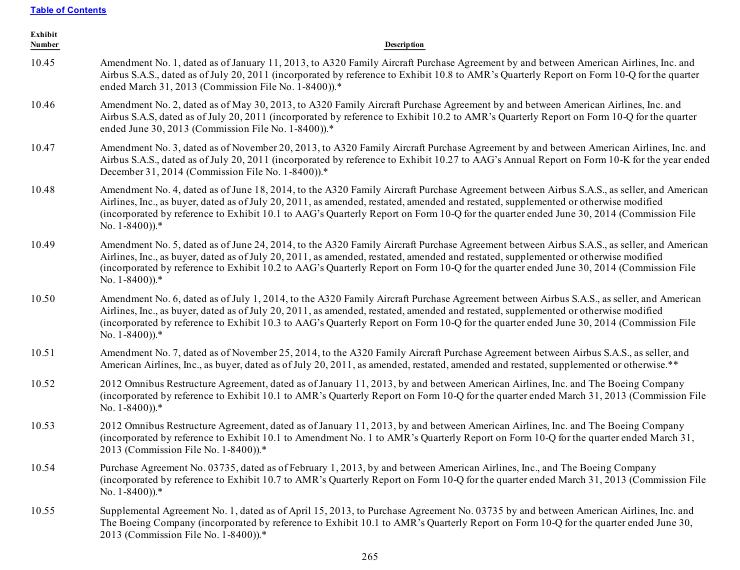table: (29, 29, 708, 538)
table column: (78, 29, 708, 538), (29, 29, 78, 538)
table column header: (29, 29, 708, 51)
table row: (29, 233, 708, 288), (29, 179, 708, 233), (29, 288, 708, 342), (29, 51, 708, 94), (29, 94, 708, 137), (29, 372, 708, 415), (29, 457, 708, 500), (29, 137, 708, 179), (29, 415, 708, 457), (29, 500, 708, 538), (29, 342, 708, 372), (29, 29, 708, 51)
